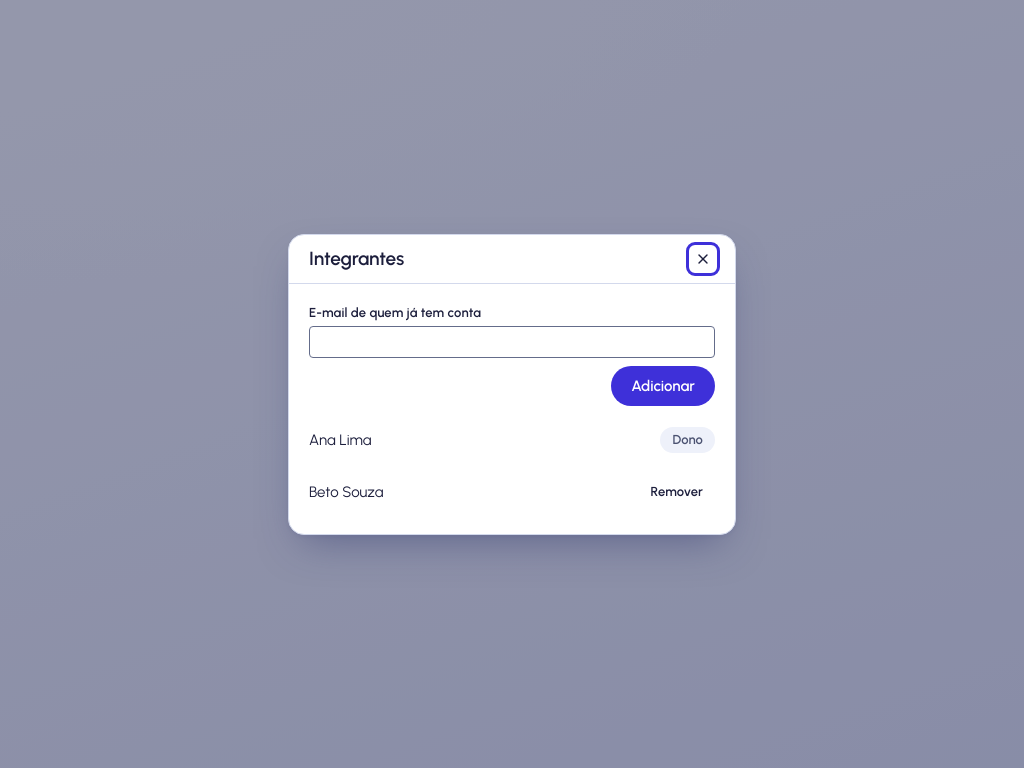
Test: IntegrantesModal › e-mail sem conta mostra o erro em alerta
Type "z@x.com" into the field labelled "E-mail de quem já tem conta". click: [512, 342]
box: [309,326,715,358]
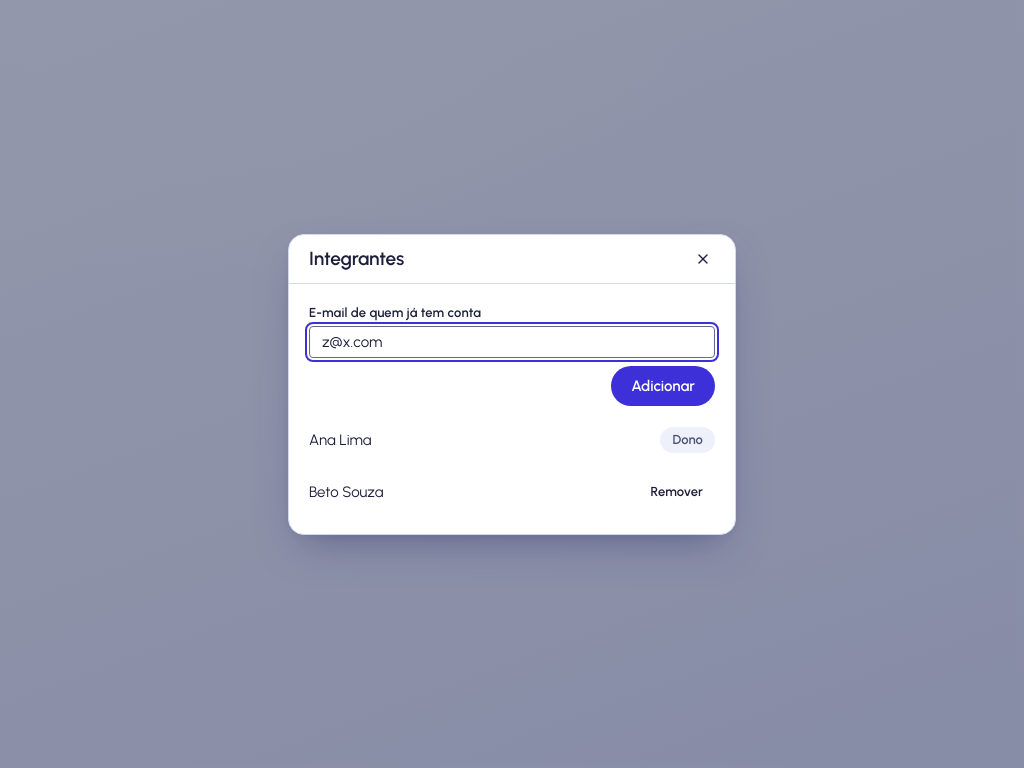
Click the button "Adicionar". click: [663, 386]
box: [611,366,715,406]
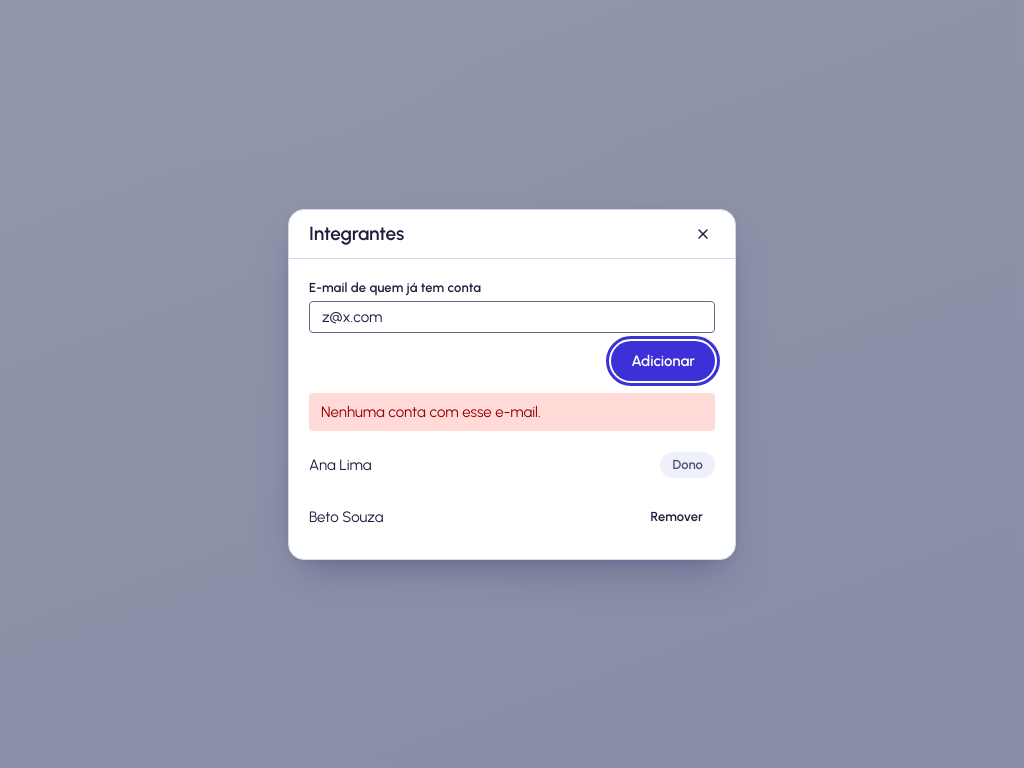
Result: the message reads "Nenhuma conta com esse e-mail." at [321,402,541,420]
